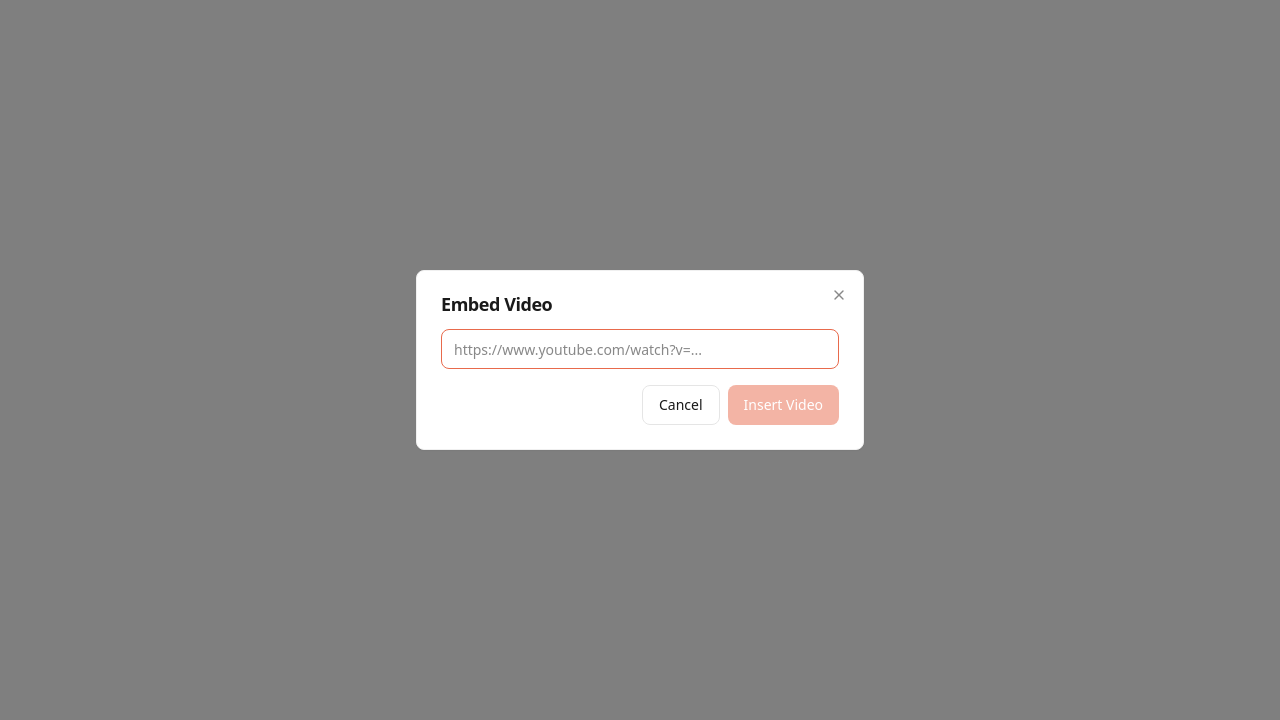
Video Dialog Integration › shows error for invalid video URL
Type "https://example.com/not-a-video" into the field with placeholder "https://www.youtube.com/watch?v=..." at (640,349), box [441,329,839,369]
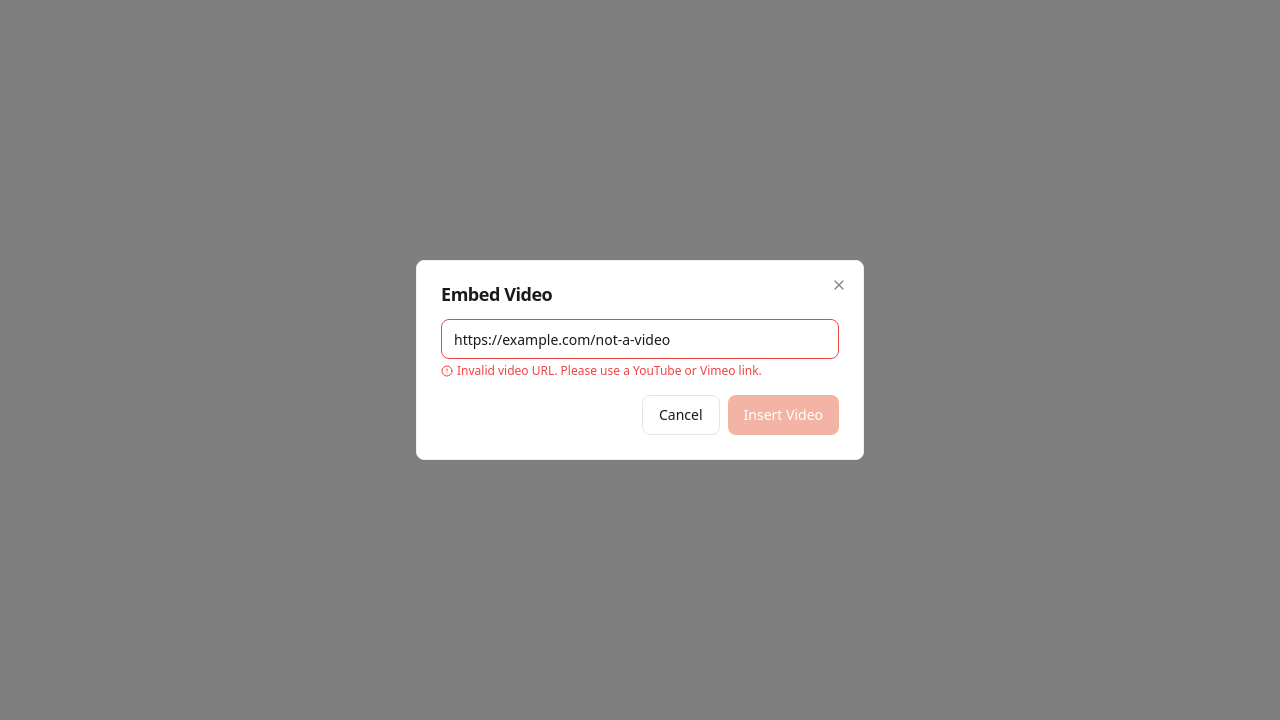
Expected: the button "Insert Video" is disabled, [728,395,839,435]
Expected: the text "Invalid video URL. Please use a YouTube or Vimeo link." is shown, [441,362,762,379]
